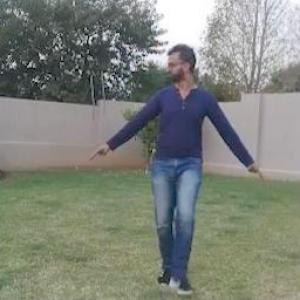land: (89, 41, 275, 286)
